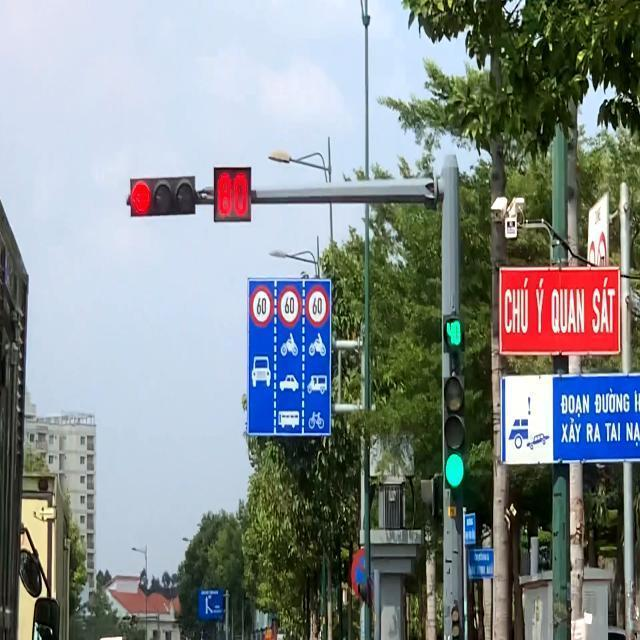127-toc-do-toi-da-60: (306, 286, 331, 328), (250, 286, 273, 326), (278, 288, 302, 326)
131a-cam-do-xe: (350, 544, 382, 598)
